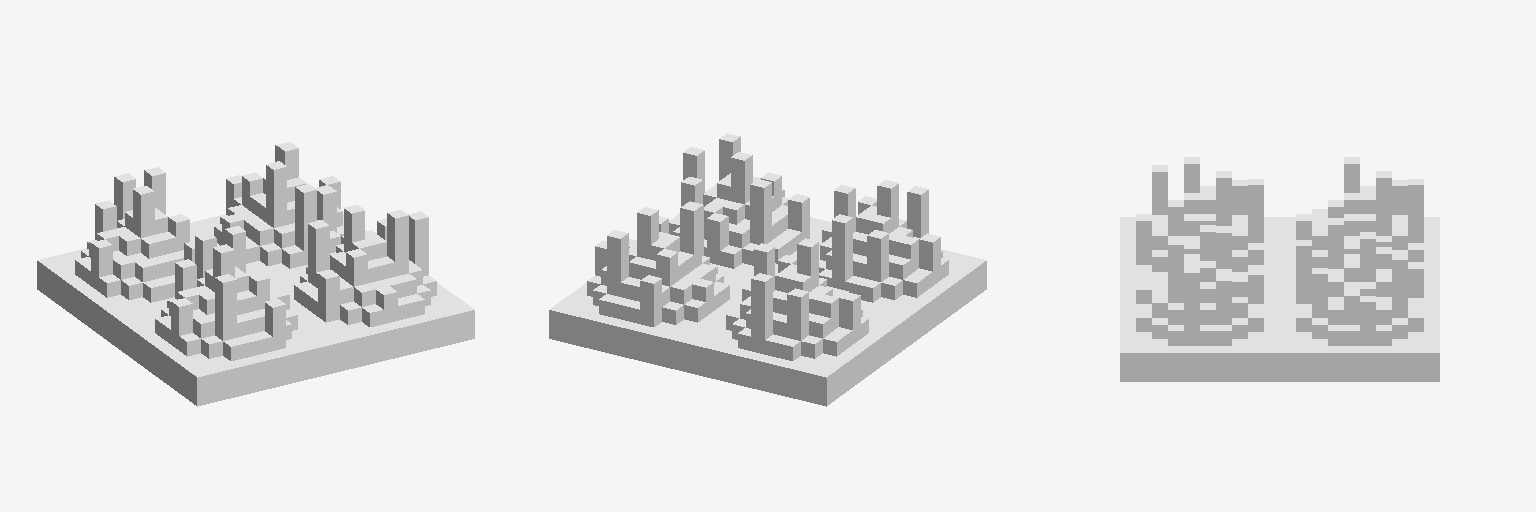
Rendered from graphite.obj.
3 renders of one model, left to right at view 1: azimuth 30°, elevation 25°; view 2: azimuth 150°, elevation 25°; view 3: azimuth 270°, elevation 25°, orthographic.
Parts seen in each view (by area): view 1: object 1; view 2: object 1; view 3: object 1.
Part boxes in pixels (bbox=[...]): object 1: bbox=[37, 142, 474, 406]; object 1: bbox=[549, 133, 986, 406]; object 1: bbox=[1120, 157, 1439, 381].
Size of the model in its own units: 2 by 0.8 by 2.